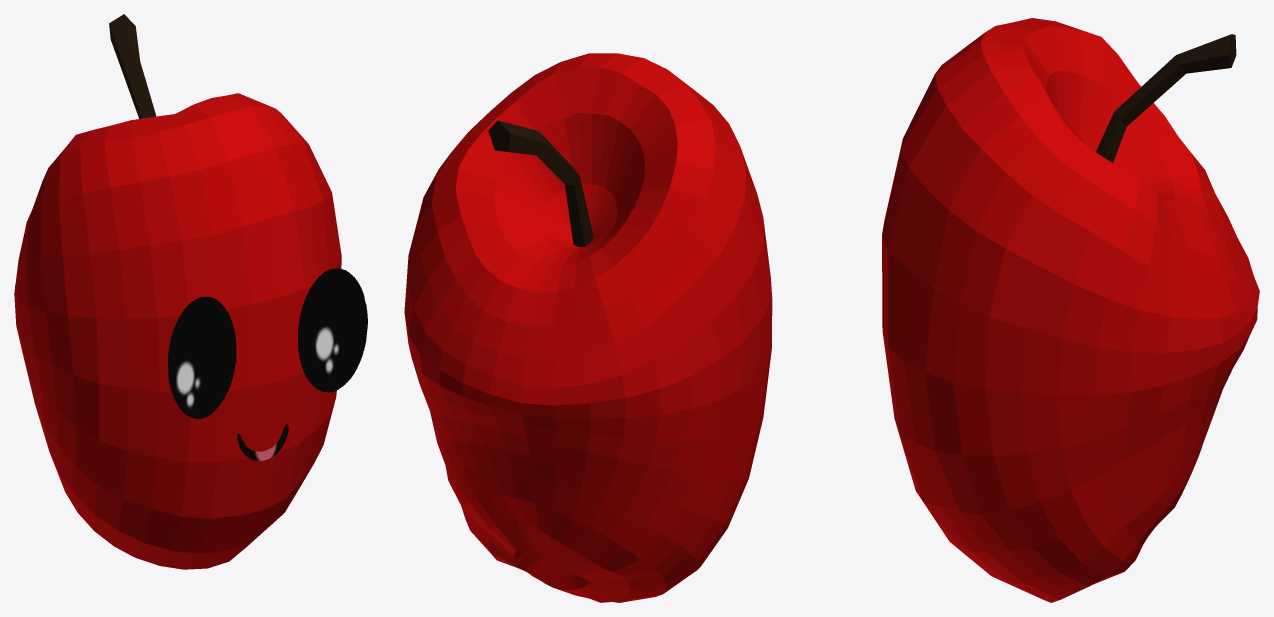
The model's file is Apple_000002.obj.
3 renders of one model, left to right at view 1: azimuth 30°, elevation 25°; view 2: azimuth 150°, elevation 25°; view 3: azimuth 270°, elevation 25°, orthographic. The views are drawn at different scales.
Parts seen in each view (by area): view 1: Bouncing_apple.001_Cylinder.005, Plane.002_Plane.003; view 2: Bouncing_apple.001_Cylinder.005; view 3: Bouncing_apple.001_Cylinder.005.
Part boxes in pixels (<box>): Bouncing_apple.001_Cylinder.005: <box>14,14,341,569</box>; Plane.002_Plane.003: <box>168,268,367,461</box>; Bouncing_apple.001_Cylinder.005: <box>404,53,772,602</box>; Bouncing_apple.001_Cylinder.005: <box>882,18,1259,602</box>.
Bounding box in the file's own units: 1.58 × 2.55 × 1.68.
